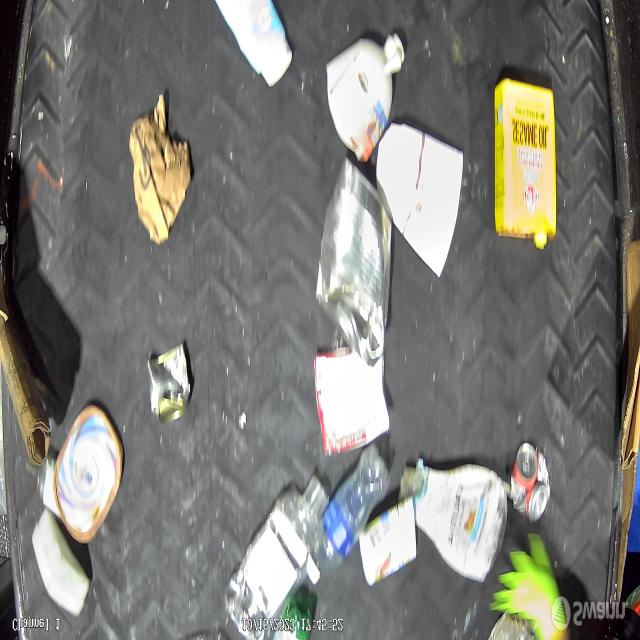can: (316, 176, 396, 354), (148, 342, 190, 428), (511, 442, 550, 522)
non_white_jug: (493, 78, 556, 251)
plastic_bottle: (224, 474, 330, 640), (308, 448, 391, 586)
